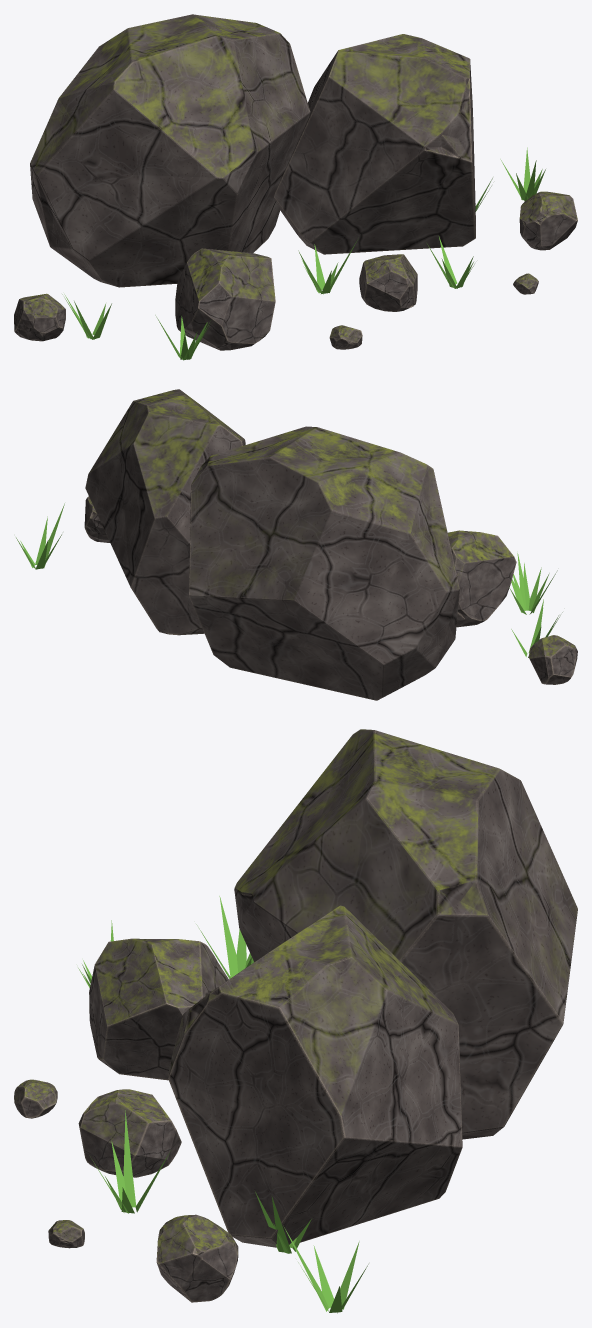
The model's file is Cluster_Big.fbx.
The picture shows the model from 3 angles, top to bottom: view 1: azimuth 30°, elevation 25°; view 2: azimuth 150°, elevation 25°; view 3: azimuth 270°, elevation 25°; orthographic projection. The views are drawn at different scales.
Visible parts, largest first — view 1: Cluster_Big_Stone_Boulder_A, Cluster_Big_Stone_Boulder_B, Cluster_Big_Stone_Medium_A, Cluster_Big_Grass, Cluster_Big_Stone_Small_A, Cluster_Big_Stone_Small_B, Cluster_Big_Stone_Small_C, Cluster_Big_Stone_Pebble; view 2: Cluster_Big_Stone_Boulder_A, Cluster_Big_Stone_Boulder_B, Cluster_Big_Stone_Medium_A, Cluster_Big_Grass, Cluster_Big_Stone_Small_C, Cluster_Big_Stone_Small_B; view 3: Cluster_Big_Stone_Boulder_A, Cluster_Big_Stone_Boulder_B, Cluster_Big_Stone_Medium_A, Cluster_Big_Stone_Small_A, Cluster_Big_Stone_Small_B, Cluster_Big_Grass, Cluster_Big_Stone_Pebble, Cluster_Big_Stone_Pebble.001.
Part boxes in pixels (x1,y1,x2,y2): Cluster_Big_Stone_Boulder_A: [30, 14, 310, 287]; Cluster_Big_Stone_Boulder_B: [274, 34, 475, 254]; Cluster_Big_Stone_Medium_A: [175, 248, 275, 350]; Cluster_Big_Grass: [62, 147, 545, 360]; Cluster_Big_Stone_Small_A: [359, 254, 417, 311]; Cluster_Big_Stone_Small_B: [519, 191, 577, 250]; Cluster_Big_Stone_Small_C: [14, 293, 65, 341]; Cluster_Big_Stone_Pebble: [329, 325, 362, 349]; Cluster_Big_Stone_Boulder_A: [188, 426, 459, 700]; Cluster_Big_Stone_Boulder_B: [85, 389, 245, 635]; Cluster_Big_Stone_Medium_A: [447, 530, 516, 627]; Cluster_Big_Grass: [16, 503, 562, 657]; Cluster_Big_Stone_Small_C: [529, 635, 577, 684]; Cluster_Big_Stone_Small_B: [84, 496, 109, 542]; Cluster_Big_Stone_Boulder_A: [234, 729, 577, 1139]; Cluster_Big_Stone_Boulder_B: [168, 905, 462, 1247]; Cluster_Big_Stone_Medium_A: [89, 938, 228, 1080]; Cluster_Big_Stone_Small_A: [78, 1089, 181, 1177]; Cluster_Big_Stone_Small_B: [156, 1214, 238, 1302]; Cluster_Big_Grass: [78, 896, 368, 1313]; Cluster_Big_Stone_Pebble: [14, 1079, 57, 1118]; Cluster_Big_Stone_Pebble.001: [48, 1220, 84, 1248].
Size of the model in its own units: 2.85 by 1.13 by 1.79.
